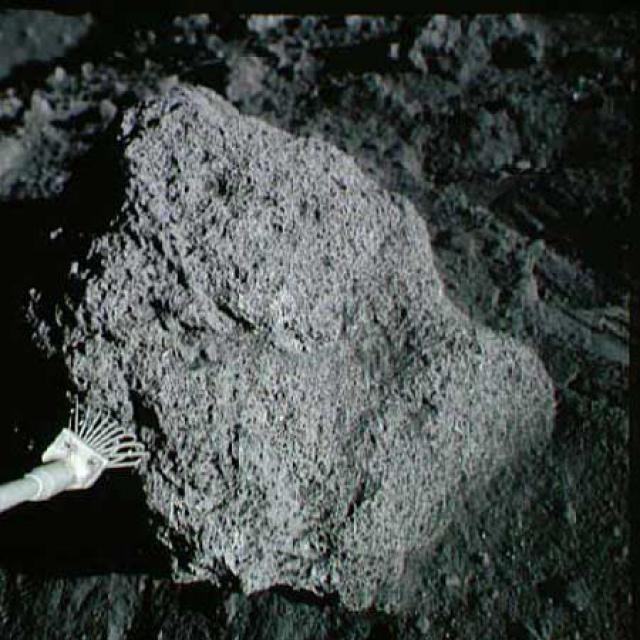artifact: (1, 384, 152, 524)
rock: (18, 75, 560, 612)
